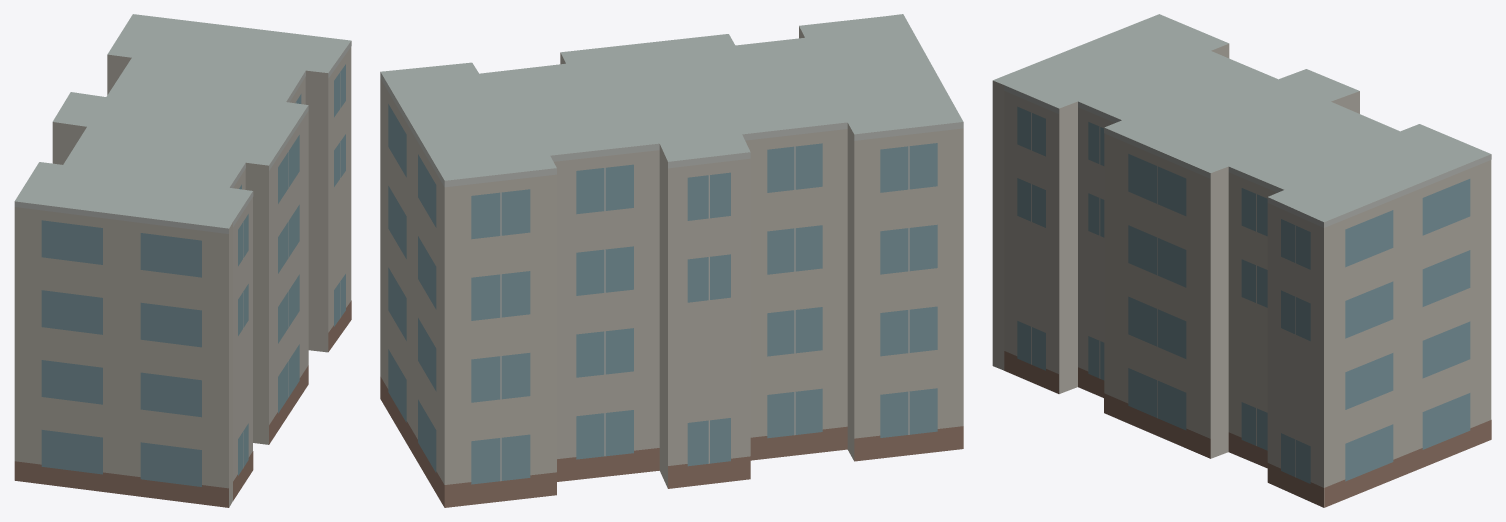
Rendered from survey-upis-32830403.glb.
3 renders of one model, left to right at view 1: azimuth 30°, elevation 25°; view 2: azimuth 150°, elevation 25°; view 3: azimuth 270°, elevation 25°, orthographic. The views are drawn at different scales.
Parts seen in each view (by area): view 1: survey-upis-32830403.tmp; view 2: survey-upis-32830403.tmp; view 3: survey-upis-32830403.tmp.
Boxes of the visible parts, x1,y1,x2,y2 form: survey-upis-32830403.tmp: (14, 14, 351, 507); survey-upis-32830403.tmp: (380, 14, 963, 507); survey-upis-32830403.tmp: (992, 14, 1491, 507).
Bounding box in the file's own units: 19.14 × 12.23 × 19.37.
